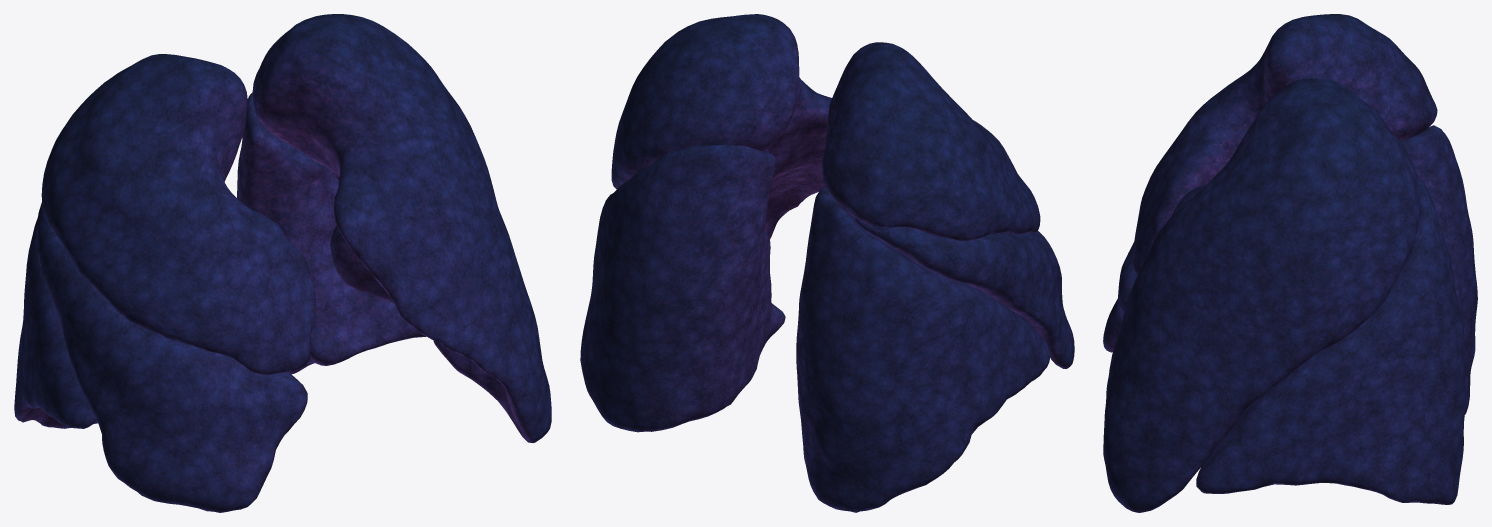
The model's file is lungs.dae.
3 renders of one model, left to right at view 1: azimuth 30°, elevation 25°; view 2: azimuth 150°, elevation 25°; view 3: azimuth 270°, elevation 25°, orthographic. The views are drawn at different scales.
Visible parts, largest first — view 1: Lungs-Top-Lobes, Lungs-Right-Middle-Lobes, Lungs-Bottom-lobes; view 2: Lungs-Bottom-lobes, Lungs-Top-Lobes, Lungs-Right-Middle-Lobes; view 3: Lungs-Top-Lobes, Lungs-Bottom-lobes, Lungs-Right-Middle-Lobes.
Part boxes in pixels (box(x1,y1,x2,y2)): Lungs-Top-Lobes: box(41, 14, 551, 442); Lungs-Right-Middle-Lobes: box(37, 202, 307, 512); Lungs-Bottom-lobes: box(14, 92, 426, 428); Lungs-Bottom-lobes: box(580, 144, 1050, 512); Lungs-Top-Lobes: box(611, 14, 1040, 241); Lungs-Right-Middle-Lobes: box(855, 218, 1074, 368); Lungs-Top-Lobes: box(1103, 14, 1437, 512); Lungs-Bottom-lobes: box(1196, 125, 1477, 504); Lungs-Right-Middle-Lobes: box(1103, 242, 1137, 352).
Size of the model in its own units: 254 by 227 by 189.
Materials: 1 (1 with a texture image).
